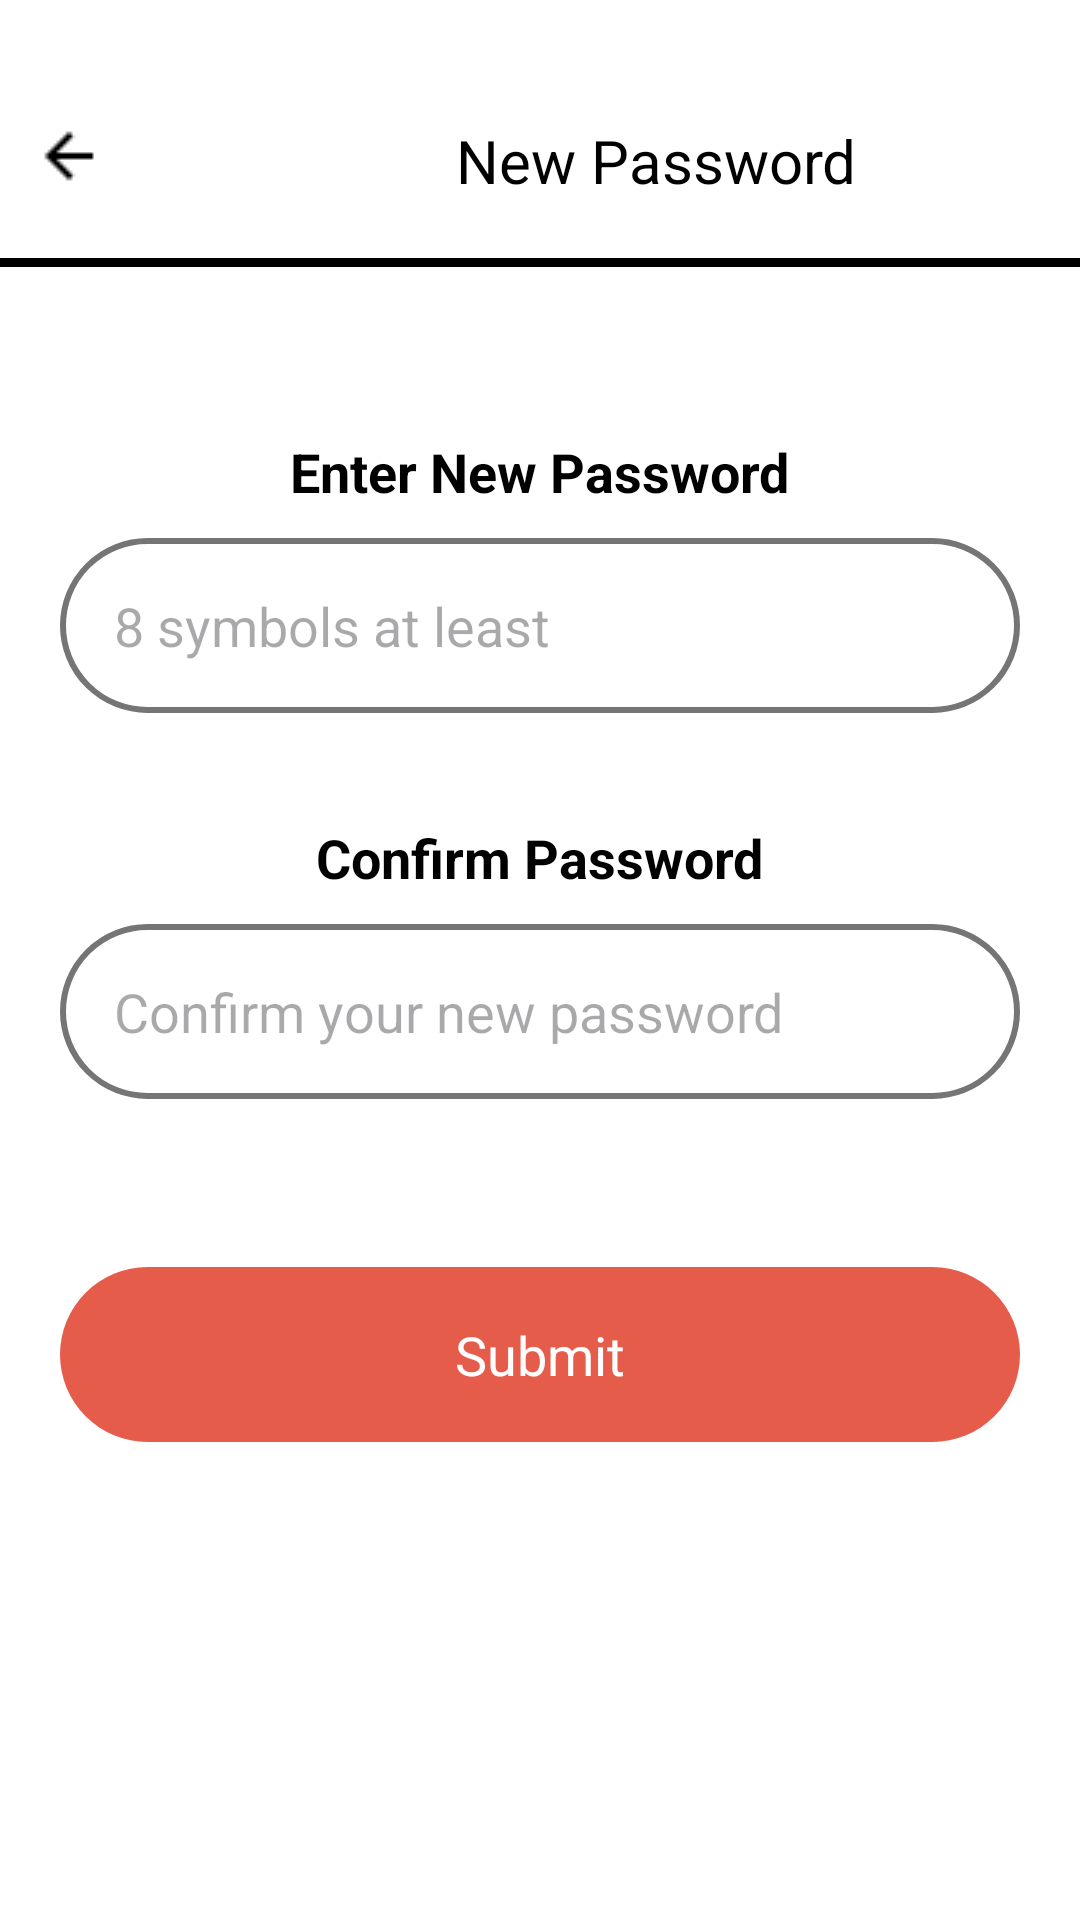

Named icons in this screenshot (1080 × 1920) and their bounding boxes, detection(x1, y1, x2, y2):
back: detection(44, 131, 94, 181)
